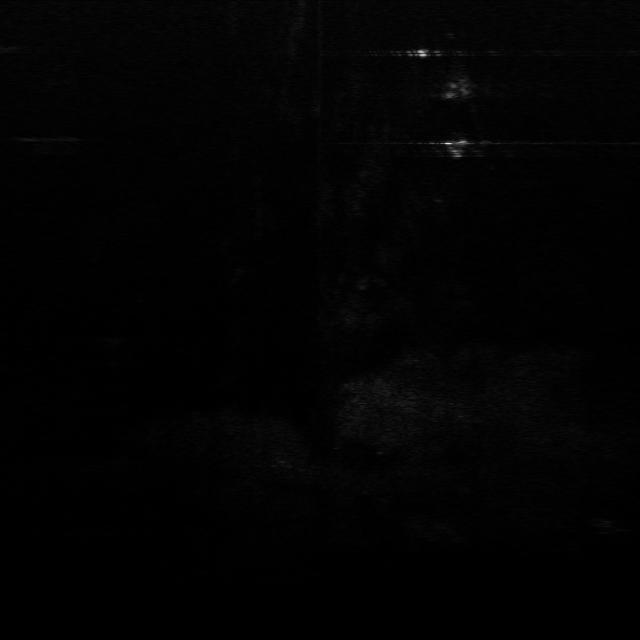rov: (441, 136, 477, 160)
